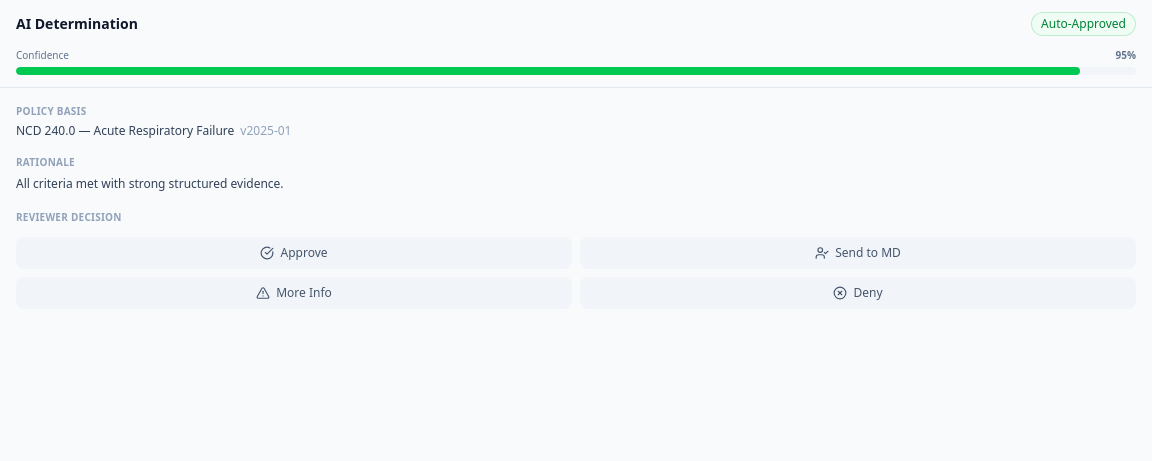
DeterminationPanel › shows reviewer notes textarea when any action is selected
The image size is (1152, 461).
Expected: the text "Reviewer Notes (optional)" is not shown
Click the button "Approve" at (294, 252), box [16,236,572,268]
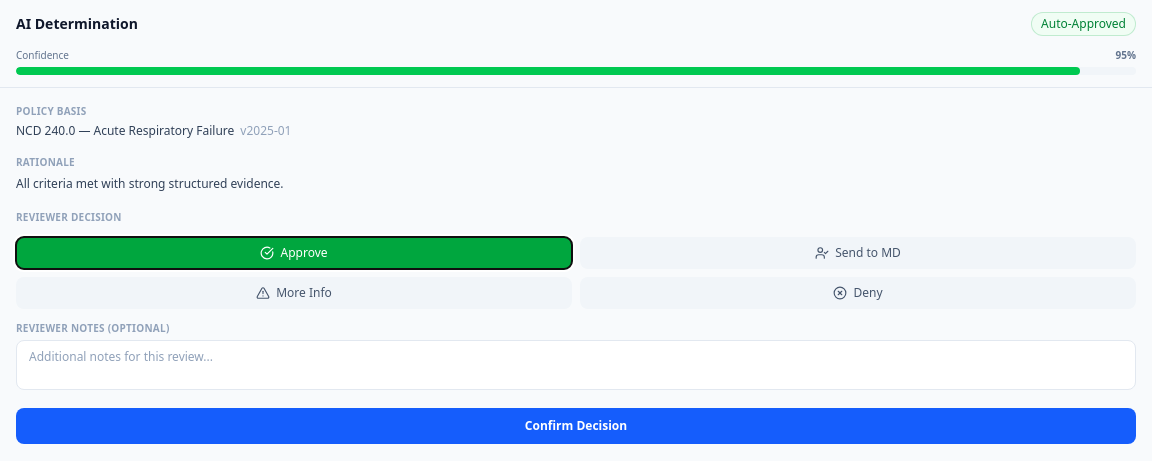
Expected: the text "Reviewer Notes (optional)" is shown, [16,320,170,334]
